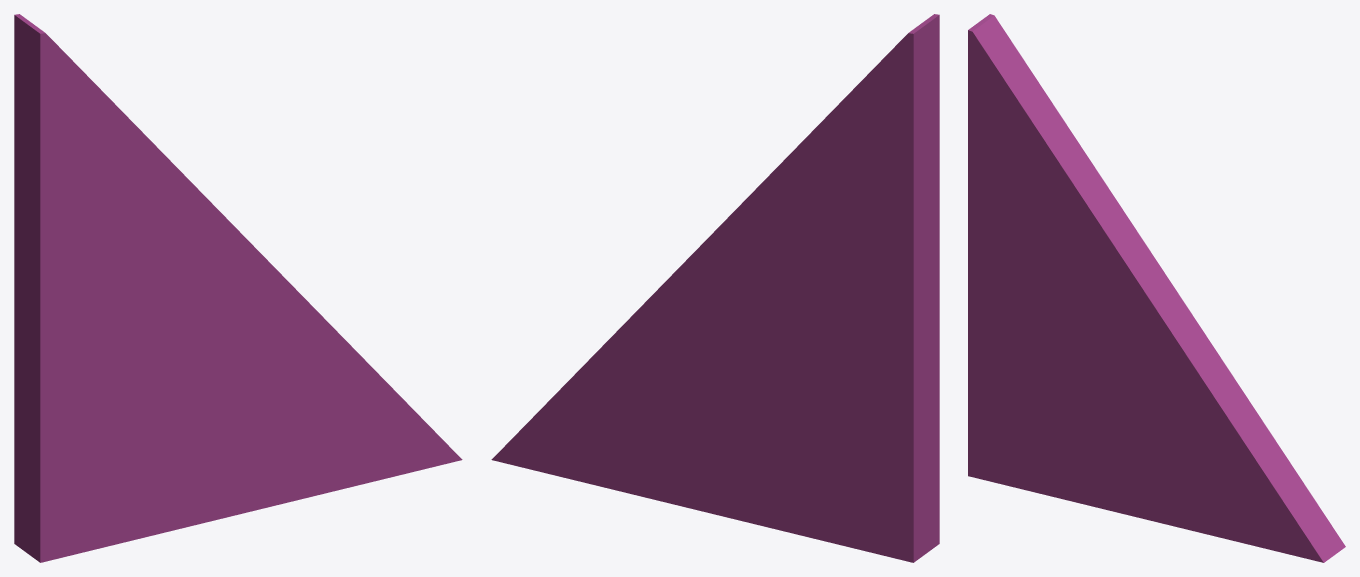
The model's file is SM_Bld_Base_Wall_Angle_01_Collision.glb.
The picture shows the model from 3 angles, left to right: view 1: azimuth 30°, elevation 25°; view 2: azimuth 150°, elevation 25°; view 3: azimuth 330°, elevation 25°; orthographic projection. The views are drawn at different scales.
Visible parts, largest first — view 1: SM_Bld_Base_Wall_Angle_01_Collision2; view 2: SM_Bld_Base_Wall_Angle_01_Collision2; view 3: SM_Bld_Base_Wall_Angle_01_Collision2.
Boxes of the visible parts, left/top/right/bottom form: SM_Bld_Base_Wall_Angle_01_Collision2: left=14, top=14, right=462, bottom=562; SM_Bld_Base_Wall_Angle_01_Collision2: left=491, top=14, right=939, bottom=562; SM_Bld_Base_Wall_Angle_01_Collision2: left=968, top=14, right=1345, bottom=562.
Size of the model in its own units: 2.55 by 3.05 by 0.2731.
